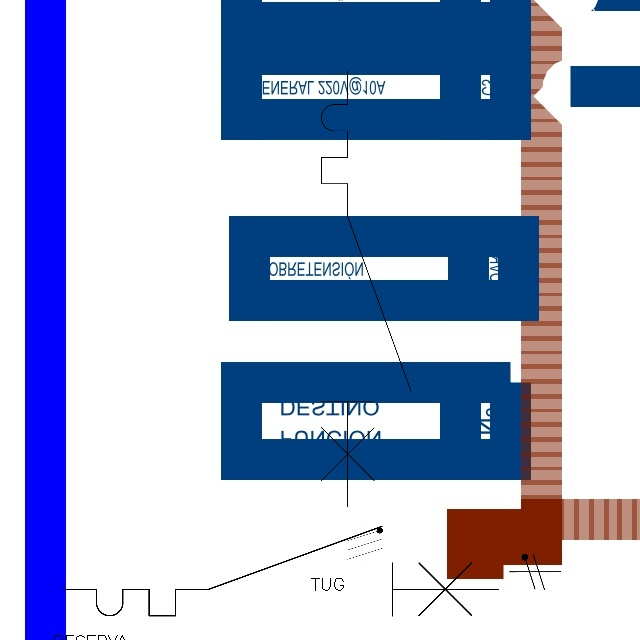interruptor_termomagnetico: (310, 60, 422, 518), (52, 515, 509, 627)
